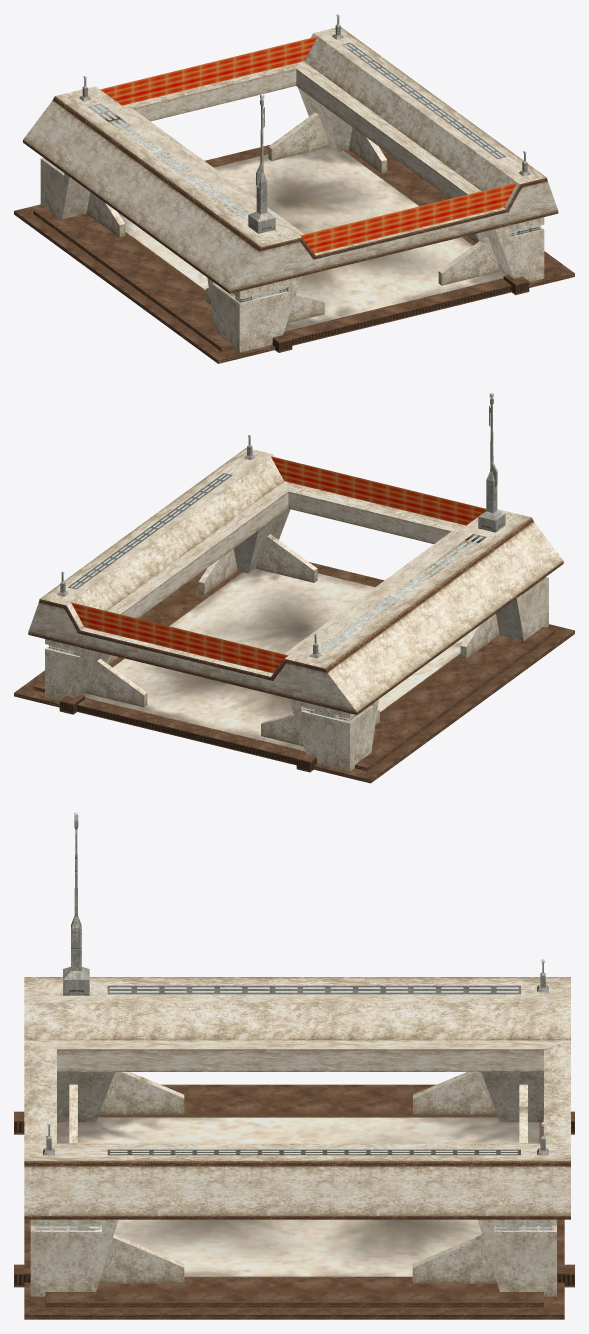
File: mun_tato_shuttleport_s01_l0.fbx
The picture shows the model from 3 angles, top to bottom: view 1: azimuth 30°, elevation 25°; view 2: azimuth 150°, elevation 25°; view 3: azimuth 270°, elevation 25°; orthographic projection. The views are drawn at different scales.
Visible parts, largest first — view 1: mesh_node; view 2: mesh_node; view 3: mesh_node.
Part boxes in pixels (<box>): mesh_node: <box>14,14,574,363</box>; mesh_node: <box>14,392,574,783</box>; mesh_node: <box>14,812,574,1319</box>.
Bounding box in the file's own units: 31.47 × 20.21 × 32.4.
